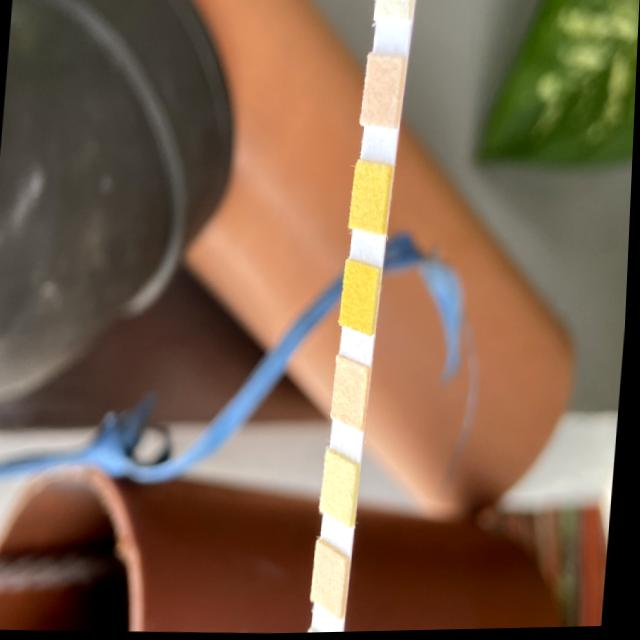Bilirubin: (375, 0, 408, 19)
Blood: (342, 273, 378, 324)
Ketone: (363, 57, 399, 127)
Protein: (326, 468, 357, 513)
SpGravity: (353, 169, 387, 234)
Urobilinogen: (317, 560, 348, 603)
pH: (335, 372, 369, 422)
